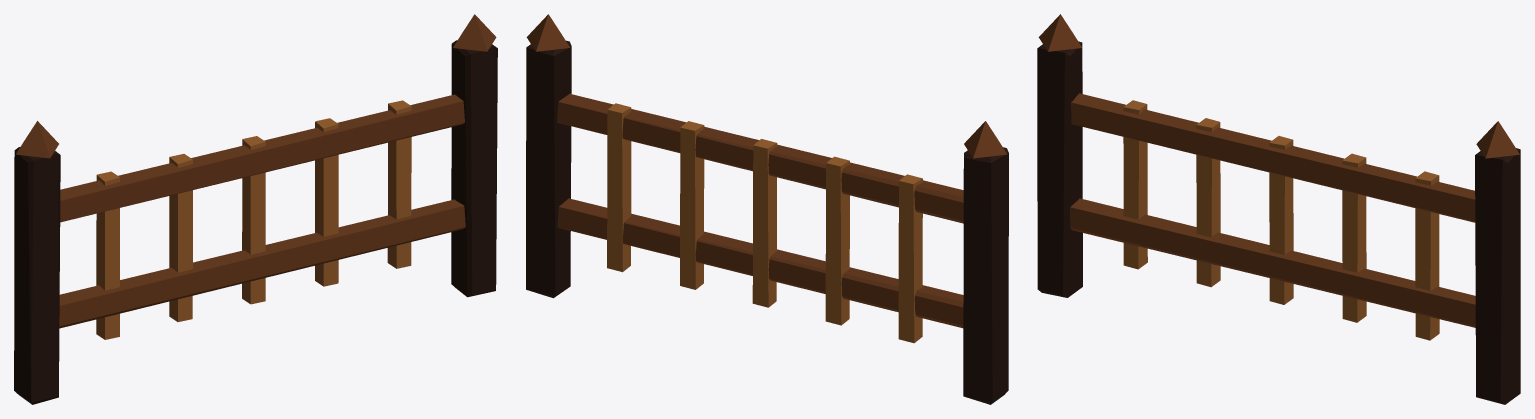
File: Cerca_de_madeira_LOD1.fbx
3 views of the same model, side by side, from view 1: azimuth 30°, elevation 25°; view 2: azimuth 150°, elevation 25°; view 3: azimuth 330°, elevation 25° (orthographic).
Visible parts, largest first — view 1: Cerca_de_madeira_LOD1; view 2: Cerca_de_madeira_LOD1; view 3: Cerca_de_madeira_LOD1.
Boxes of the visible parts, left/top/right/bottom form: Cerca_de_madeira_LOD1: left=14, top=14, right=497, bottom=404; Cerca_de_madeira_LOD1: left=526, top=14, right=1008, bottom=404; Cerca_de_madeira_LOD1: left=1037, top=14, right=1520, bottom=404.
Size of the model in its own units: 264 by 145 by 24.
1 material, 1 textured.
